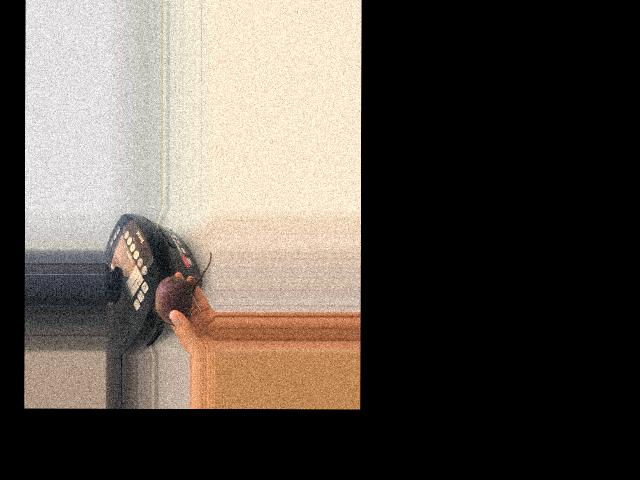beet: (152, 251, 211, 325)
